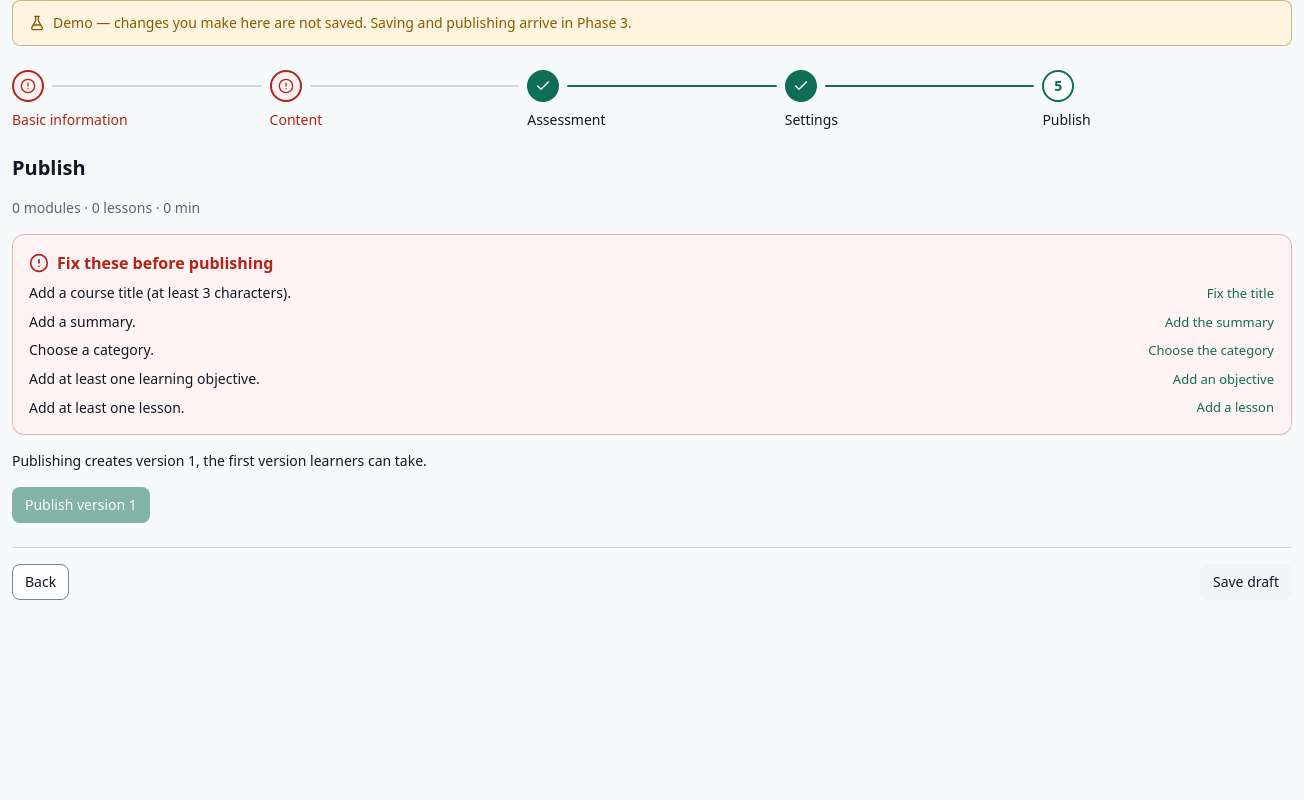
Test case: CourseBuilder publish step › lists what blocks publishing and never claims to have published or saved
Expected: the text "changes you make here are not saved" is shown, 53,13 -> 632,32
Expected: the text "Add a course title (at least 3 characters)." is shown, 29,283 -> 291,303
What coordinates should you click on to do the following:
click the button "Save draft"
I would click on:
 (1246, 582)
Its box is 1200,564 -> 1292,600.
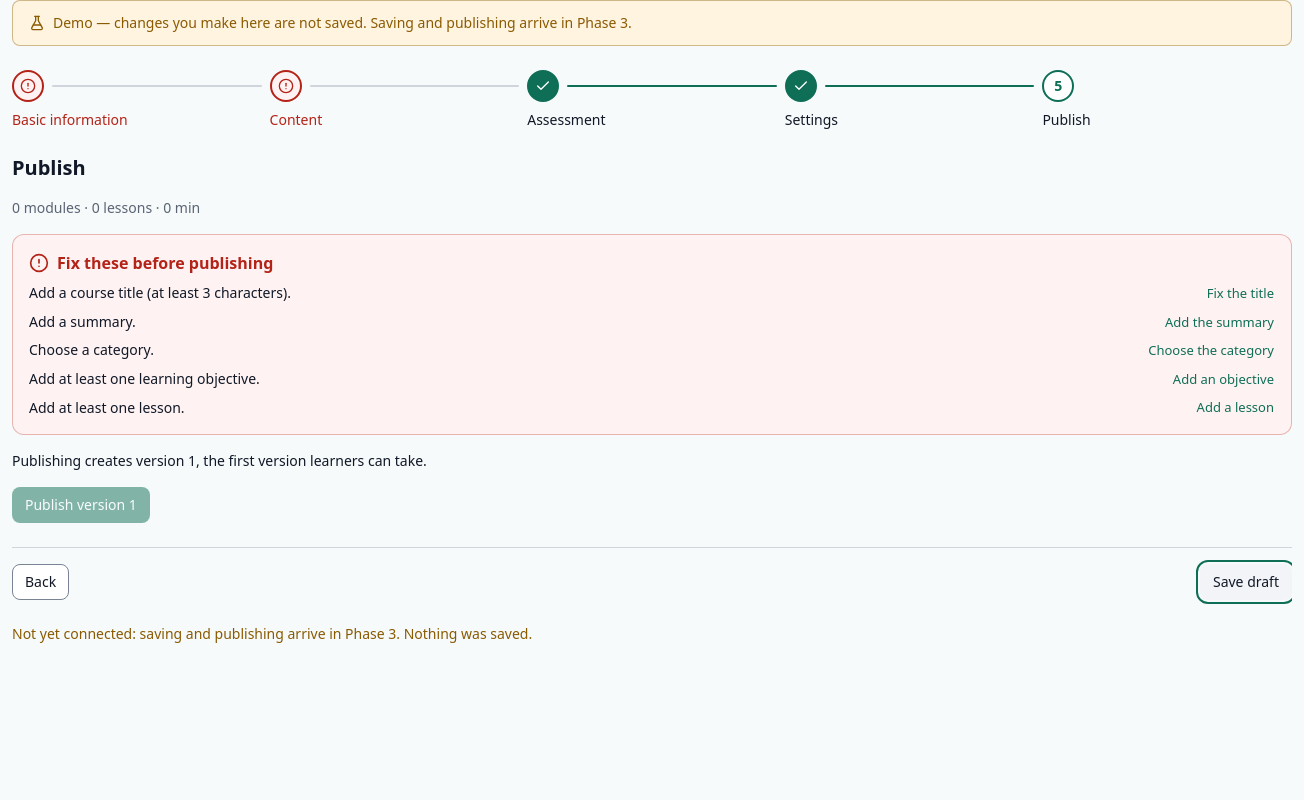
Expected: the message shows "Not yet connected", 12,624 -> 532,643
